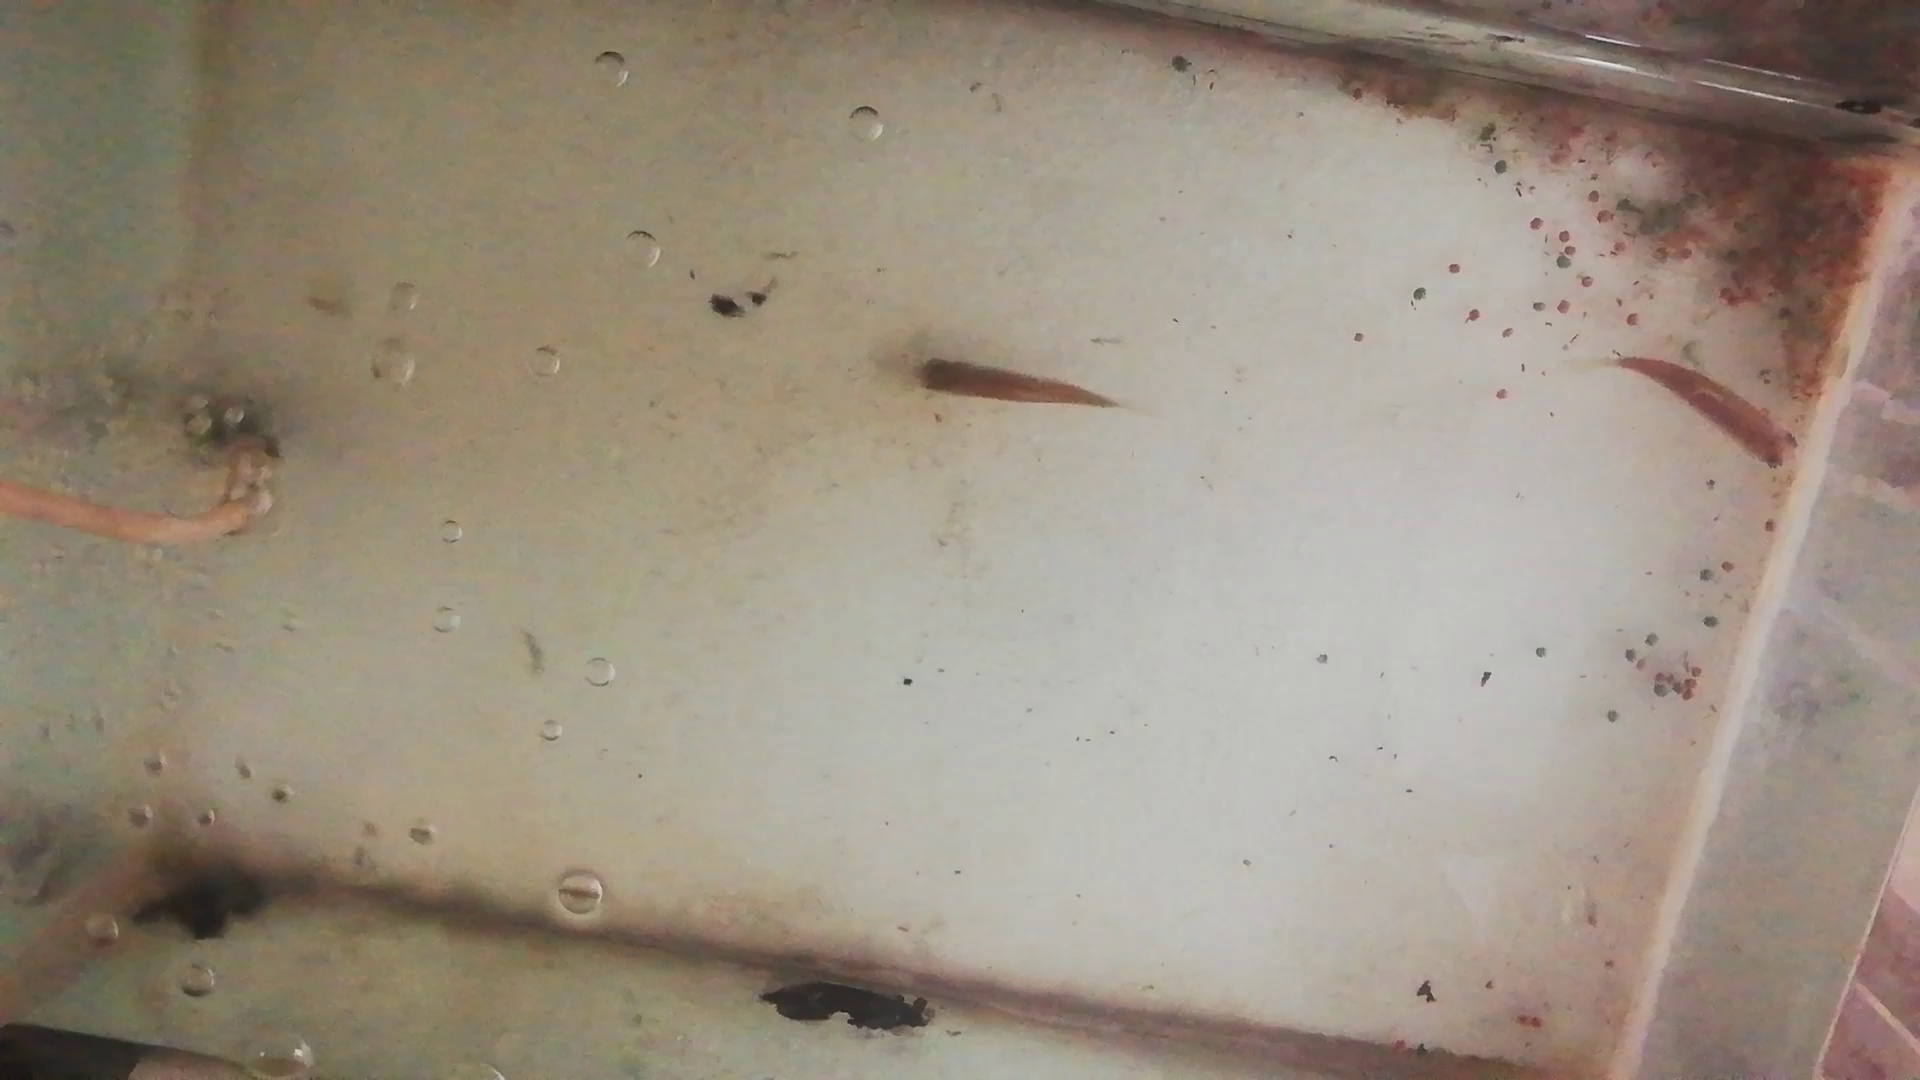fish: (1614, 353, 1807, 475), (905, 353, 1120, 413)
